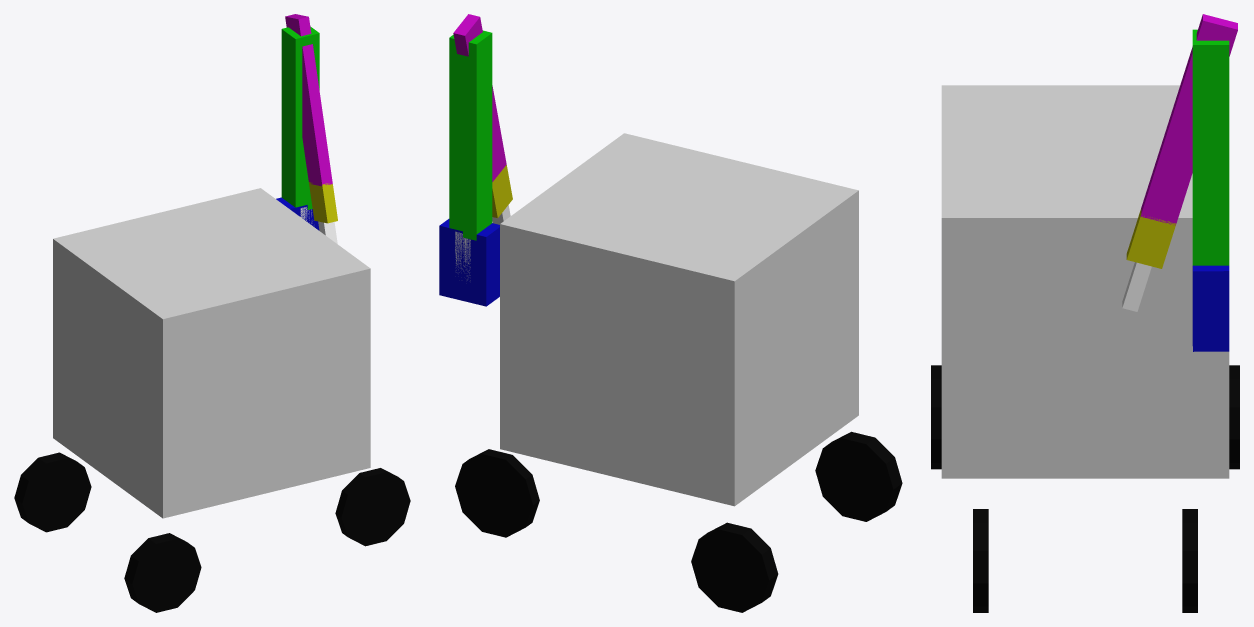
Rendered from base_primitive_with_new_arm.dae.
The picture shows the model from 3 angles, left to right: view 1: azimuth 30°, elevation 25°; view 2: azimuth 150°, elevation 25°; view 3: azimuth 270°, elevation 25°; orthographic projection. The views are drawn at different scales.
Parts seen in each view (by area): view 1: main_body, link1, rear_left_wheel, rear_right_wheel, caster_right_wheel, link2, link3; view 2: main_body, link1, rear_left_wheel, rear_right_wheel, caster_left_wheel, link0, link2, link3; view 3: main_body, link1, link2, link0, link3, caster_left_wheel, caster_right_wheel, rear_left_wheel, rear_right_wheel, link4.
Part boxes in pixels (x1,y1,x2,y2): main_body: [53, 188, 370, 518]; link1: [281, 26, 319, 209]; rear_left_wheel: [14, 452, 91, 532]; rear_right_wheel: [124, 533, 201, 612]; caster_right_wheel: [335, 468, 410, 546]; link2: [285, 14, 332, 186]; link3: [309, 182, 337, 223]; main_body: [500, 133, 858, 506]; link1: [449, 30, 492, 240]; rear_left_wheel: [691, 522, 778, 612]; rear_right_wheel: [815, 431, 902, 521]; caster_left_wheel: [455, 449, 539, 537]; link0: [439, 219, 499, 306]; link2: [453, 14, 506, 181]; link3: [492, 165, 512, 218]; main_body: [941, 85, 1229, 478]; link1: [1192, 29, 1229, 265]; link2: [1141, 14, 1237, 225]; link0: [1192, 265, 1229, 351]; link3: [1126, 208, 1176, 268]; caster_left_wheel: [1182, 509, 1197, 612]; caster_right_wheel: [973, 509, 988, 612]; rear_left_wheel: [1229, 365, 1239, 469]; rear_right_wheel: [931, 365, 941, 469]; link4: [1122, 262, 1151, 311].
Size of the model in its own units: 0.8551 by 0.59 by 1.26.
